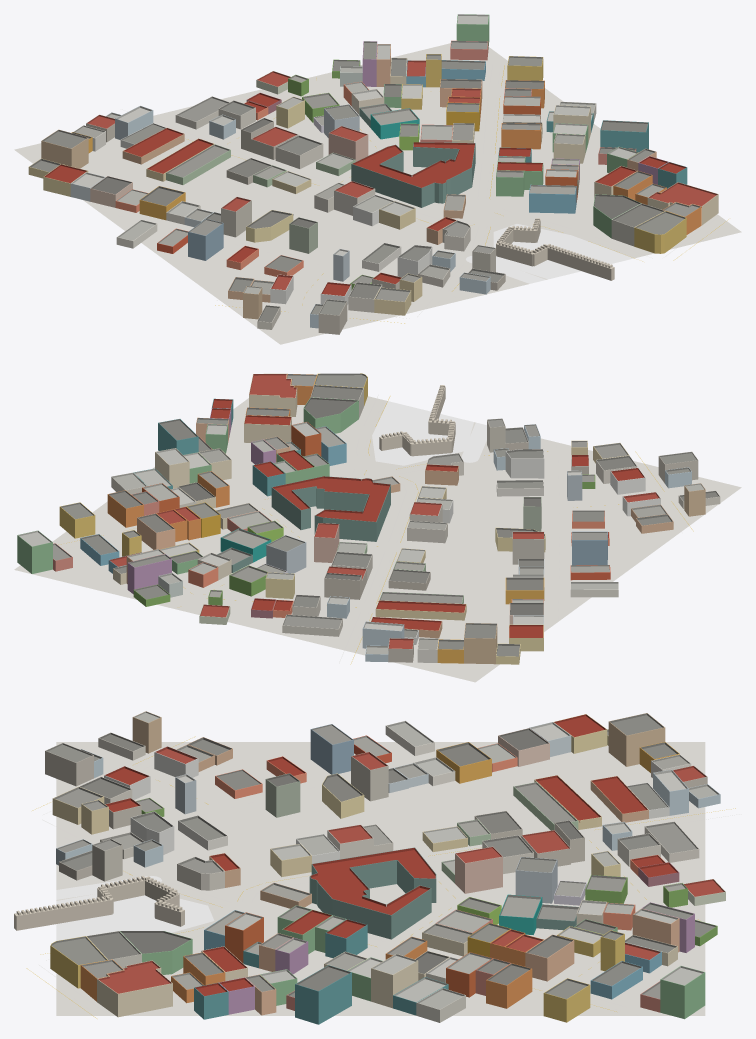
The picture shows the model from 3 angles, top to bottom: view 1: azimuth 30°, elevation 25°; view 2: azimuth 150°, elevation 25°; view 3: azimuth 270°, elevation 25°; orthographic projection. The views are drawn at different scales.
Parts seen in each view (by area): view 1: walls, roofs, ground, stone, plaza, markings; view 2: ground, walls, roofs, plaza, stone, pavers, markings; view 3: walls, roofs, ground, stone, plaza, markings, pavers.
Boxes of the visible parts, x1,y1,x2,y2 form: walls: (28, 15, 718, 334); roofs: (29, 14, 718, 322); ground: (14, 43, 741, 344); stone: (496, 218, 614, 280); plaza: (493, 224, 633, 279); markings: (103, 57, 728, 323); ground: (14, 396, 741, 682); walls: (17, 377, 720, 664); roofs: (17, 373, 719, 656); plaza: (372, 401, 473, 465); stone: (379, 385, 455, 456); pavers: (461, 422, 486, 462); markings: (58, 395, 693, 664); walls: (45, 717, 725, 1024); roofs: (45, 711, 725, 1009); ground: (56, 742, 705, 1015); stone: (14, 876, 184, 930); plaza: (56, 894, 214, 940); markings: (26, 736, 741, 1018); pavers: (56, 876, 161, 899).
Size of what is drawn, in the model's own units: 269 by 14.15 by 280.
